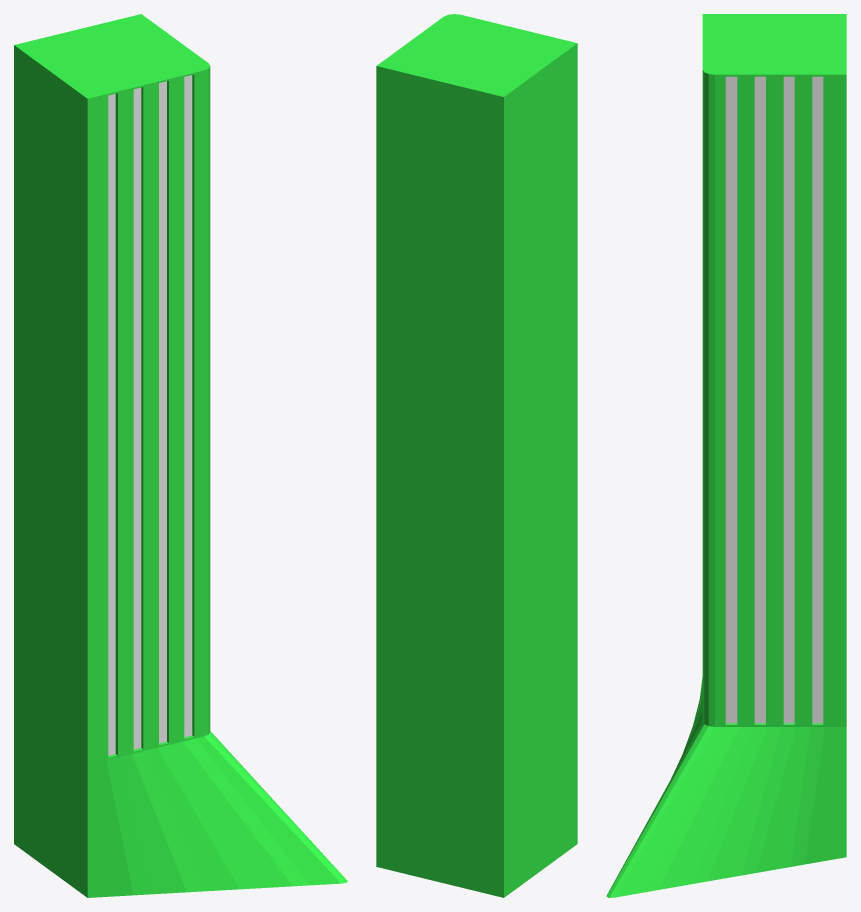
File: pillar2.fbx
3 renders of one model, left to right at view 1: azimuth 30°, elevation 25°; view 2: azimuth 150°, elevation 25°; view 3: azimuth 270°, elevation 25°, orthographic. The views are drawn at different scales.
Visible parts, largest first — view 1: PILLAR2.001; view 2: PILLAR2.001; view 3: PILLAR2.001.
Boxes of the visible parts, box(x1,y1,x2,y2) form: PILLAR2.001: box(14, 14, 347, 897); PILLAR2.001: box(376, 14, 577, 897); PILLAR2.001: box(606, 14, 846, 897).
Bounding box in the file's own units: 1.67 × 6 × 1.67.
